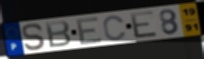8: (159, 8, 180, 35)
B: (44, 19, 73, 49)
C: (102, 14, 128, 42)
E: (129, 10, 160, 40), (76, 16, 105, 47)
S: (21, 23, 48, 52)
